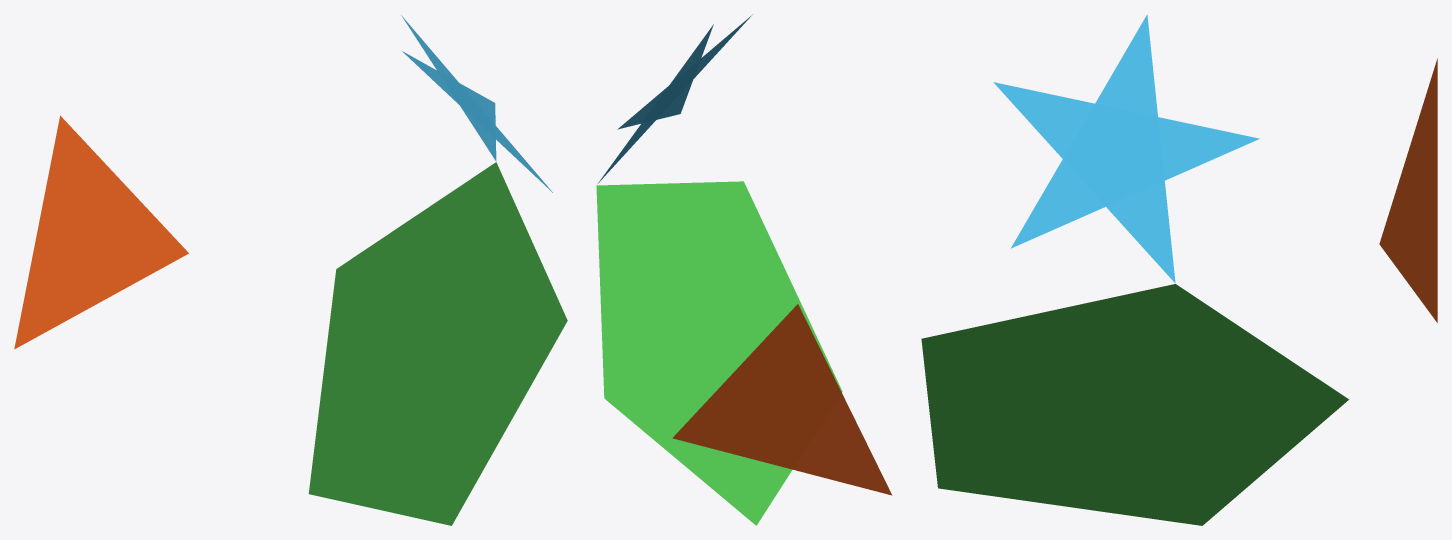
File: SnubDodecadodecahedronF.obj
The picture shows the model from 3 angles, left to right: view 1: azimuth 30°, elevation 25°; view 2: azimuth 150°, elevation 25°; view 3: azimuth 270°, elevation 25°; orthographic projection. The views are drawn at different scales.
Bounding box in the file's own units: 1.9 × 2.22 × 1.89.
